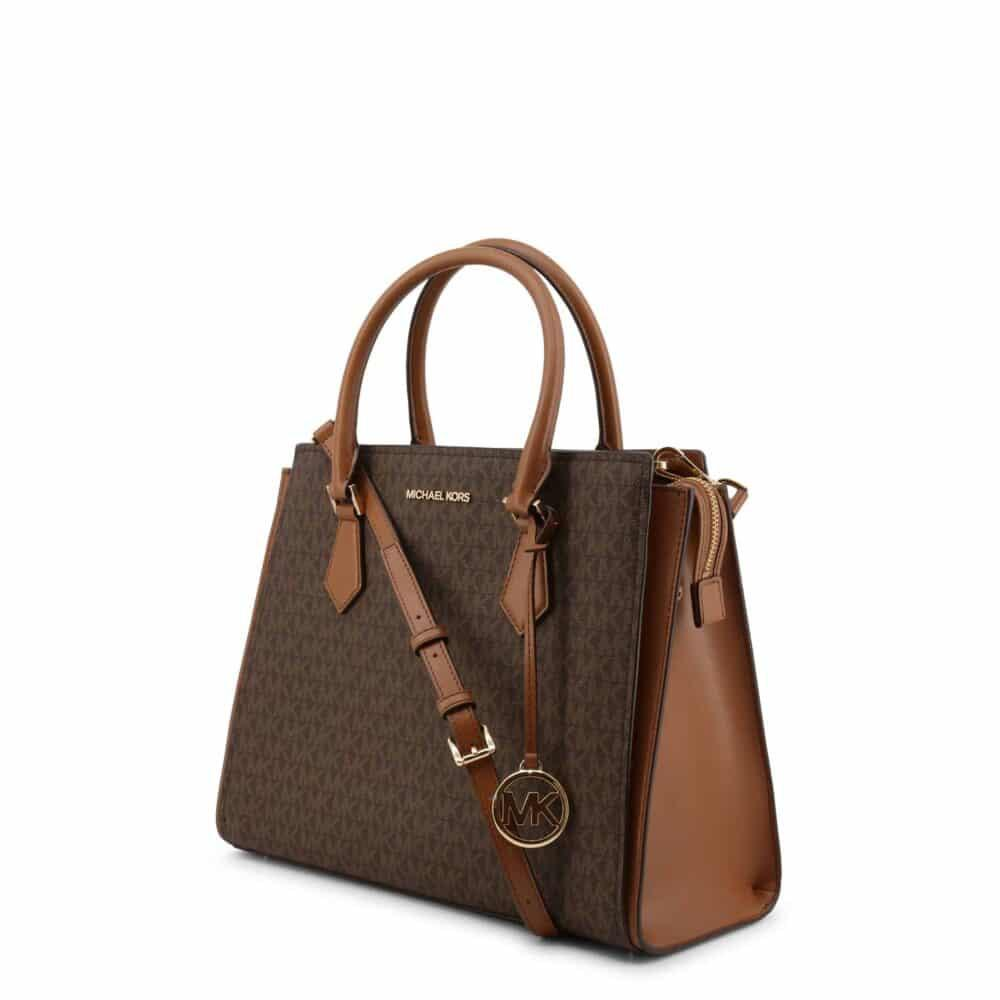MICHAEL-KORS: (405, 489, 470, 503)
